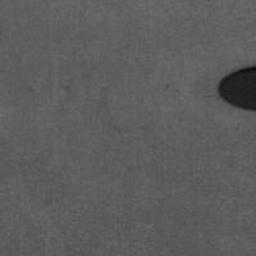Punching: (218, 65, 256, 111)
